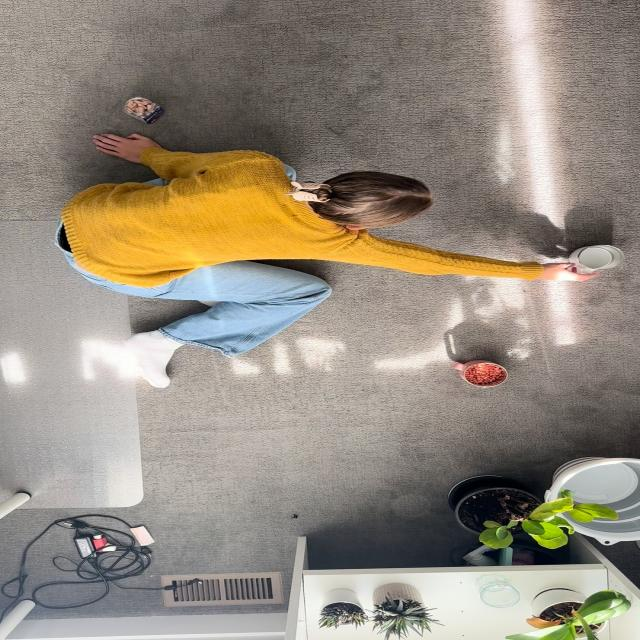IBC: (569, 245, 623, 274), (452, 359, 507, 387)
